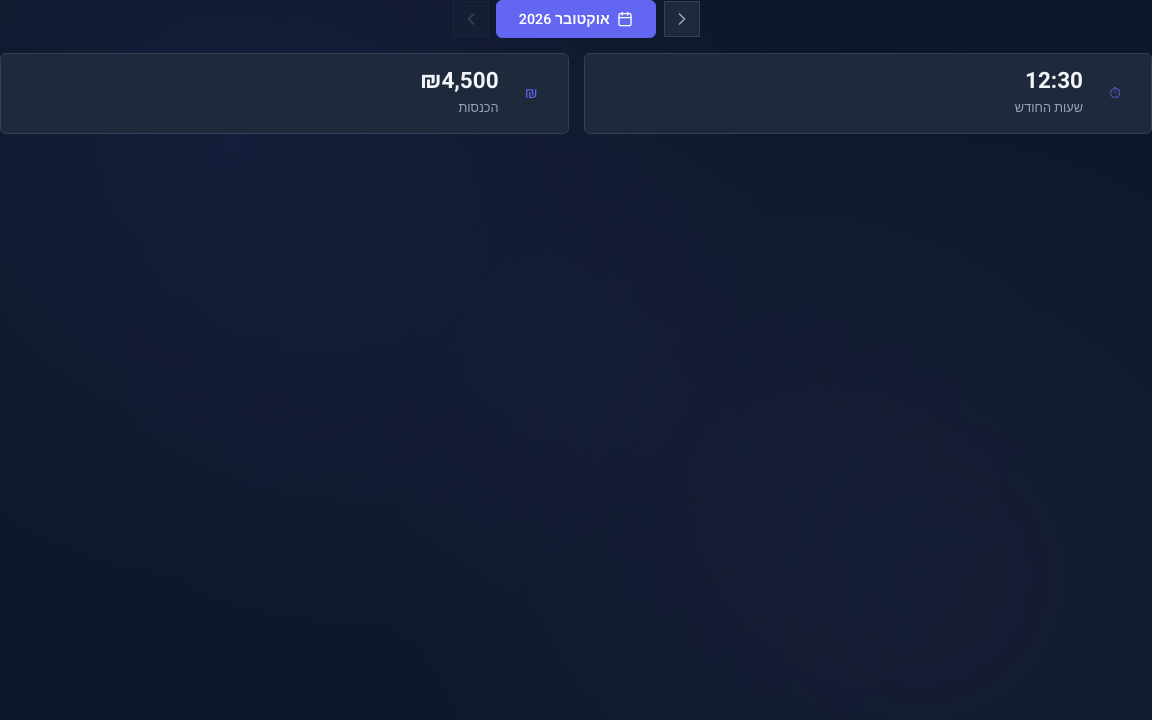
Test case: StatsBar - date range modal › applies the chosen calendar days and closes
This screenshot has width=1152, height=720.
Step 1. Click the button titled "בחר טווח תאריכים" → (576, 19), box [496,0,656,38]
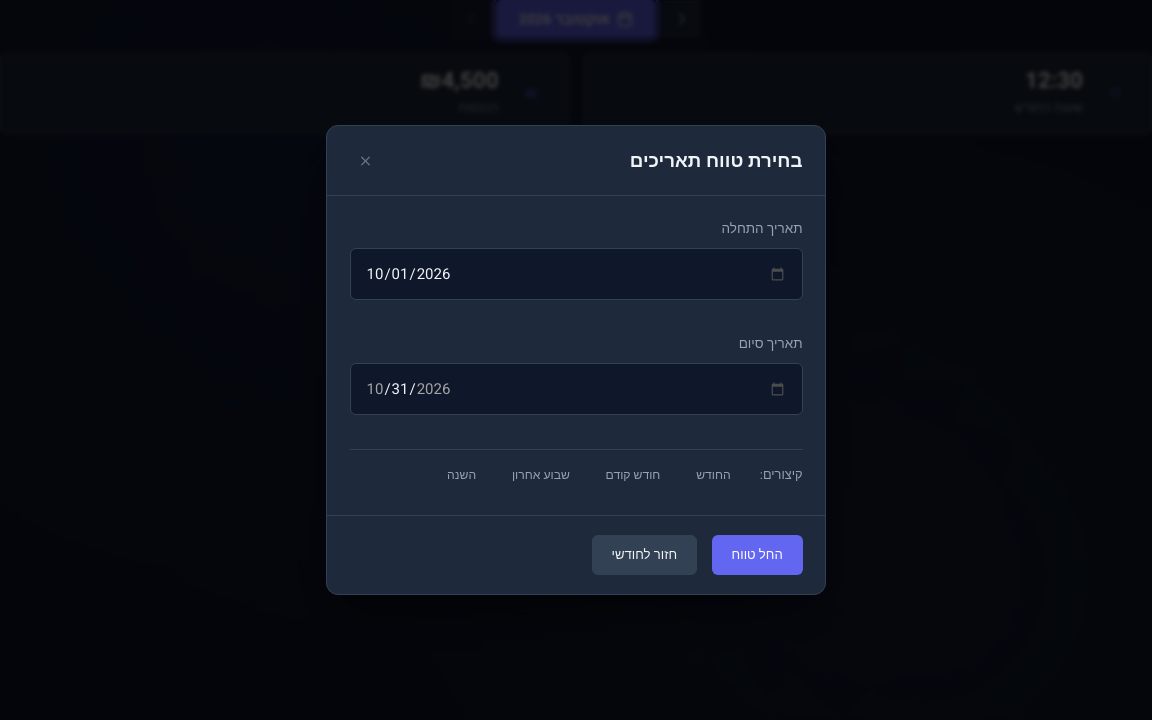
Step 2. Type "2026-09-01" into the date field below "תאריך התחלה" → (576, 274), box [350,248,802,300]
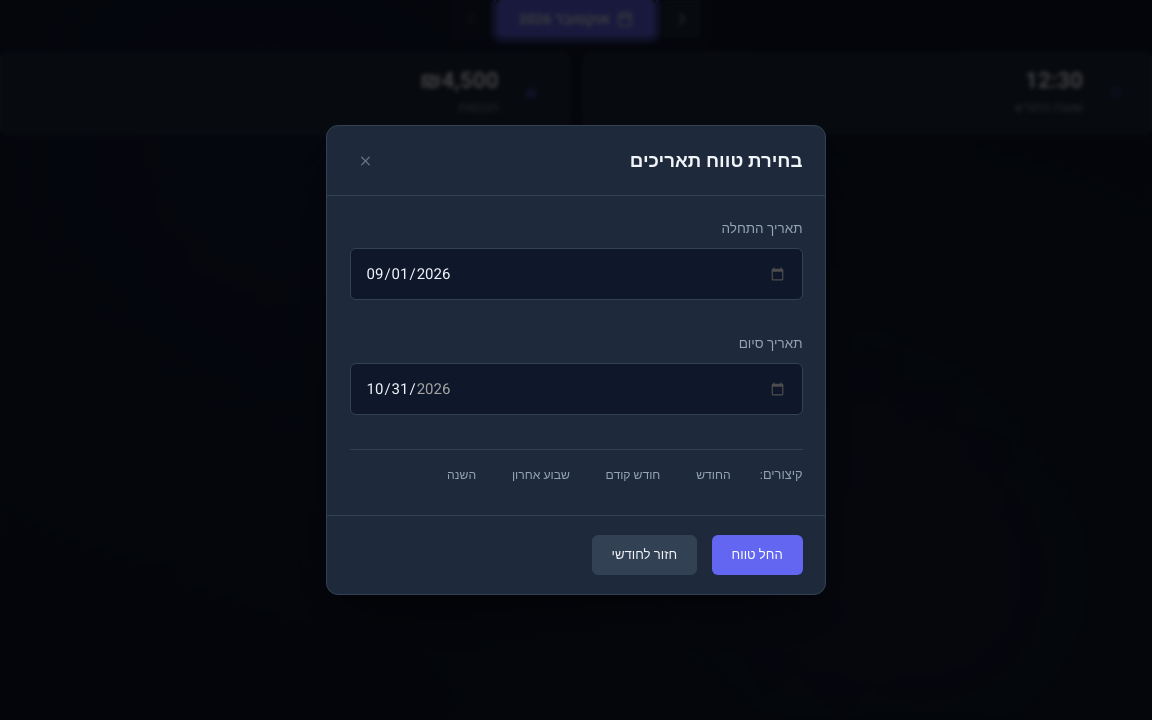
Step 3. Type "2026-09-15" into the date field below "תאריך סיום" → (576, 389), box [350,363,802,415]
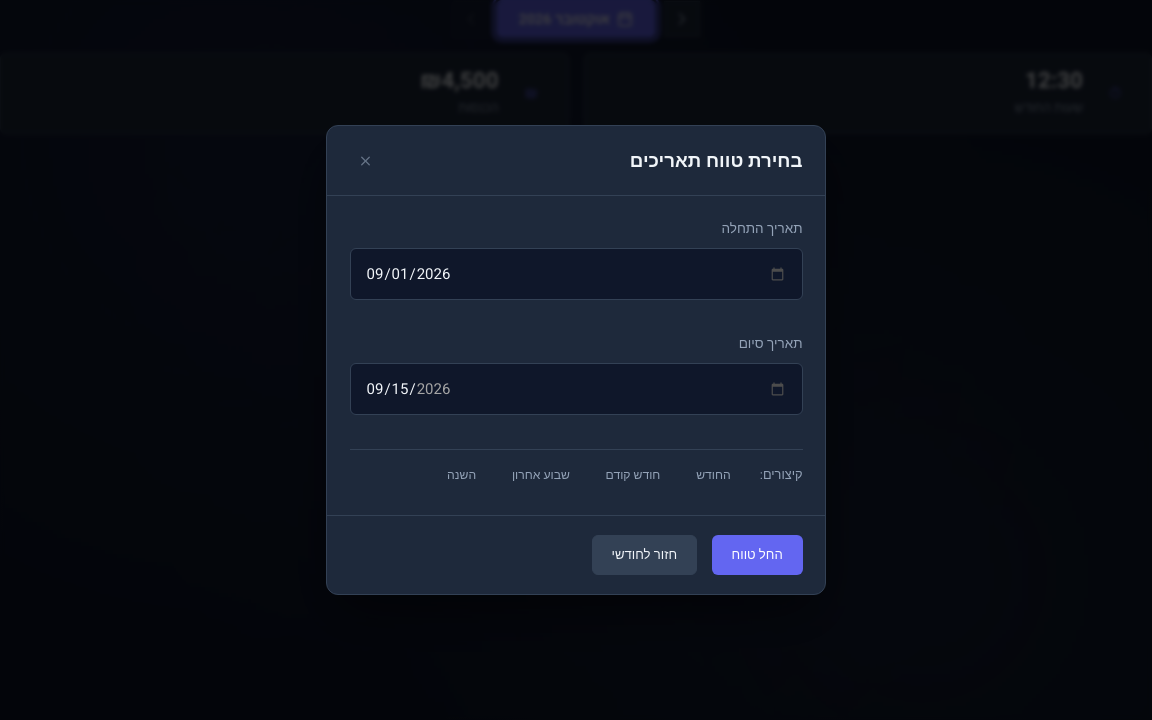
Step 4. Click the button "החל טווח" → (757, 555), box [712,535,802,576]
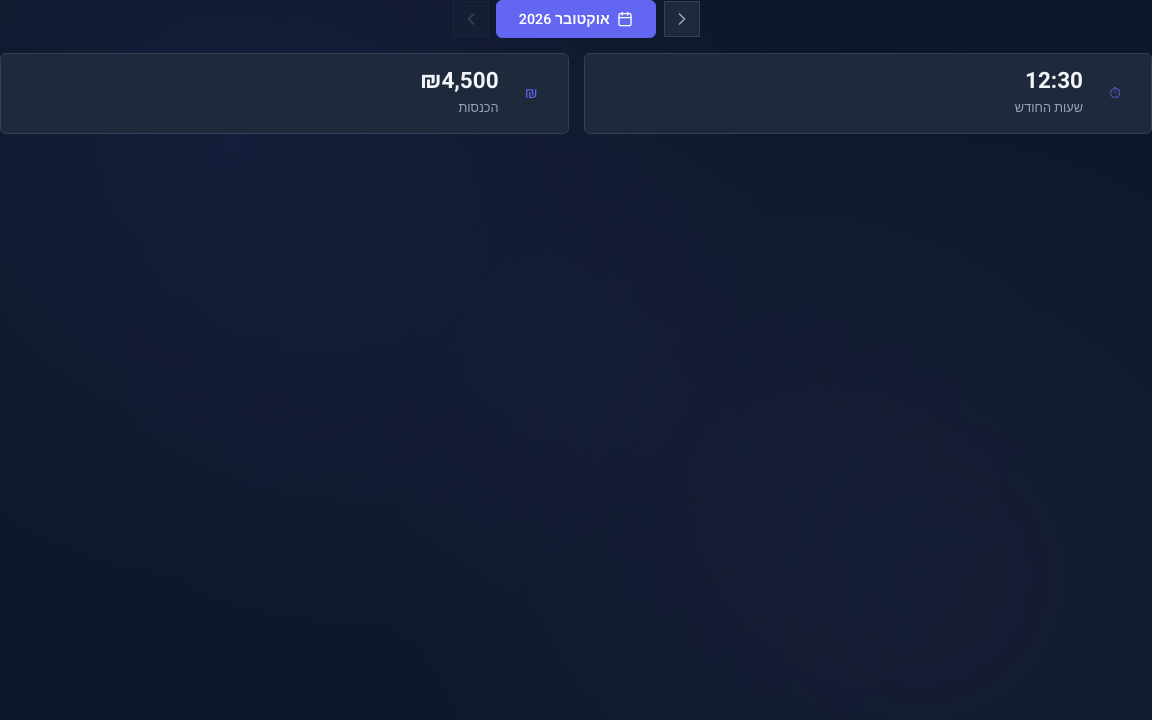
Now the heading "בחירת טווח תאריכים" is gone
